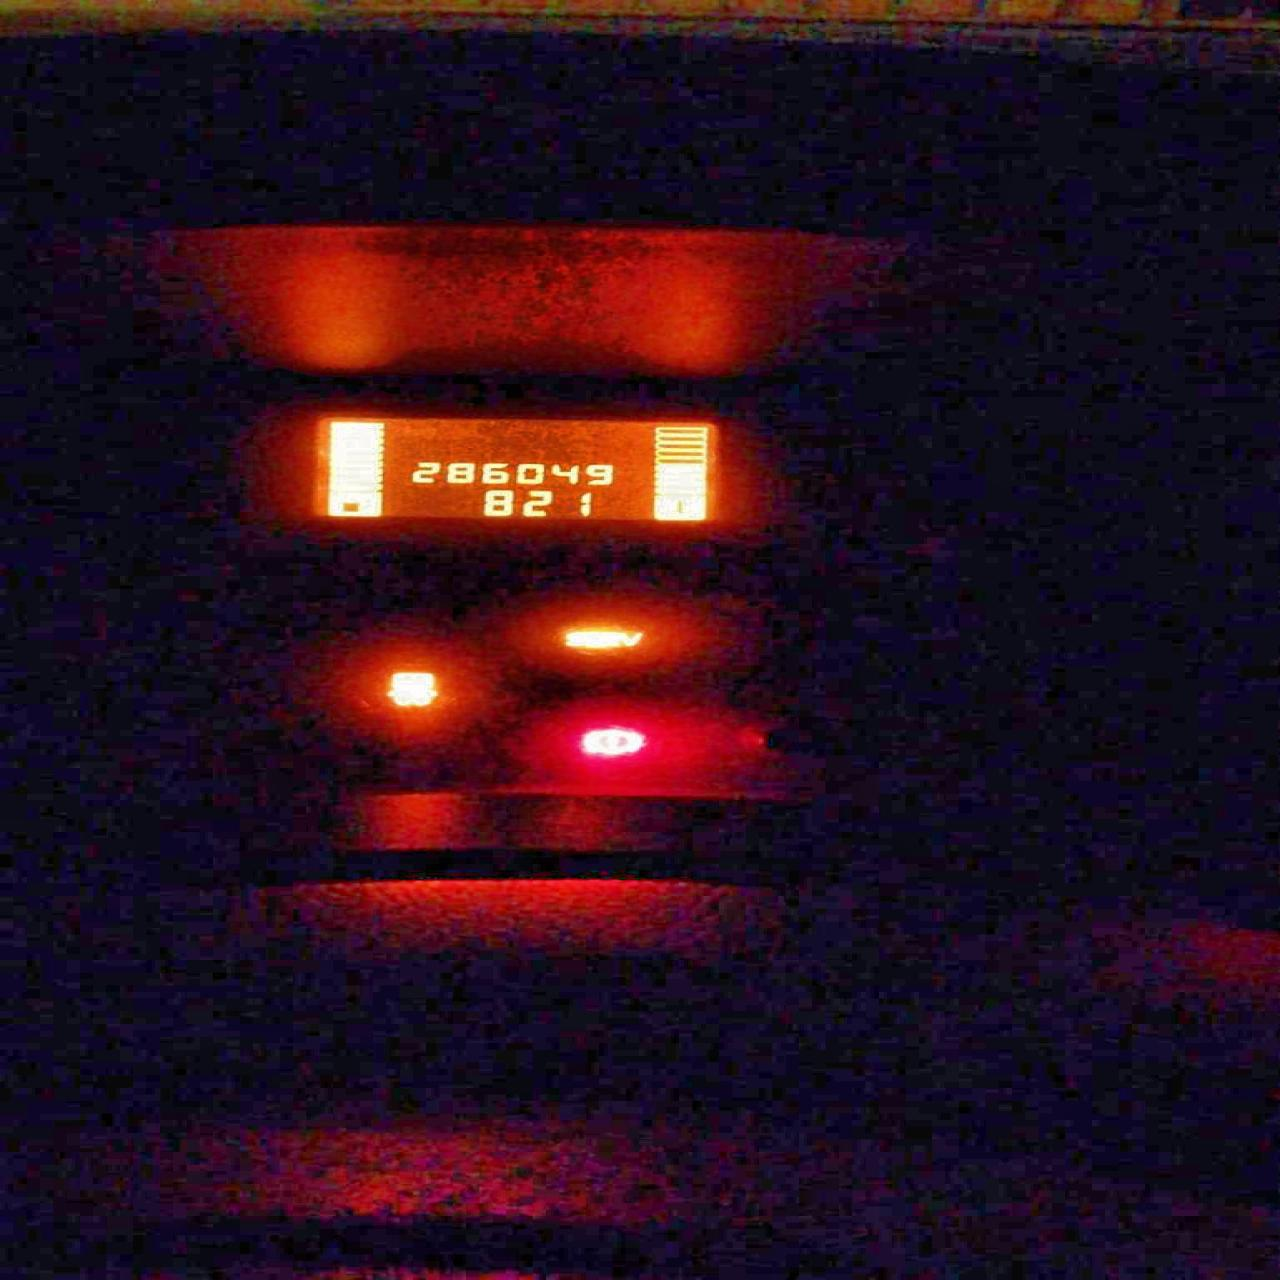0: (515, 462, 545, 484)
1: (576, 491, 591, 516)
2: (519, 489, 551, 517), (409, 462, 440, 483)
4: (550, 463, 578, 484)
6: (479, 463, 508, 483)
8: (482, 489, 512, 516), (444, 462, 475, 483)
9: (584, 464, 611, 485)
odometer: (306, 415, 714, 524)
